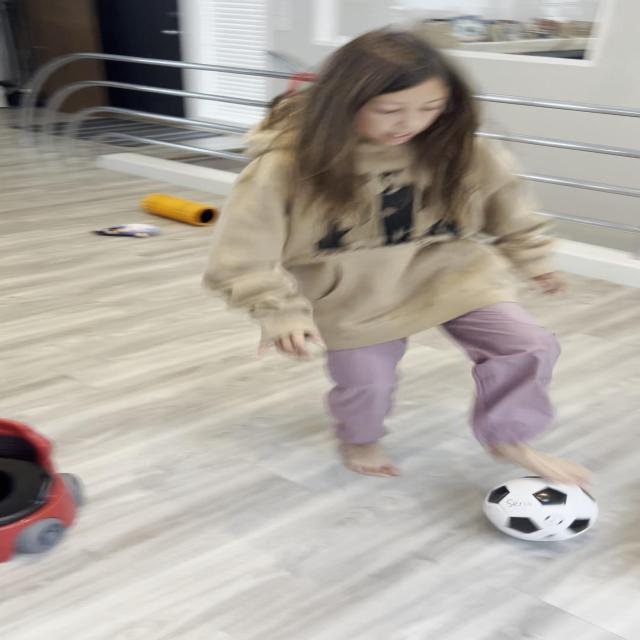Soccer Ball: (484, 476, 599, 541)
